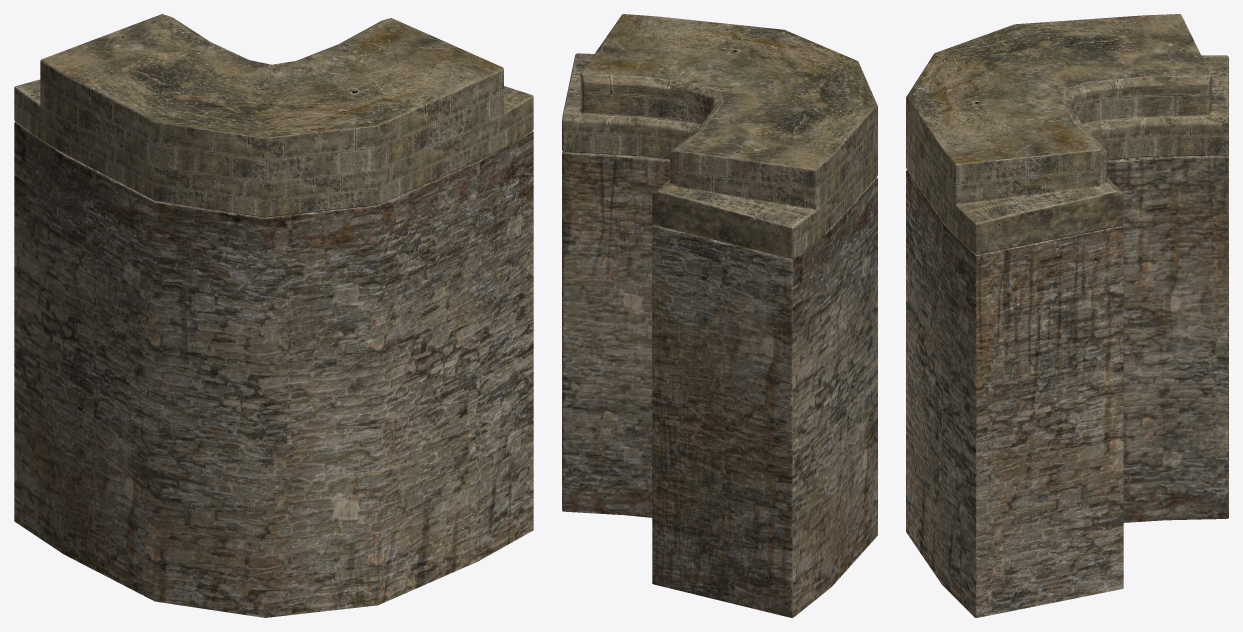
Rendered from modular_fort_01_wall_thick_corner_02.gltf.
The picture shows the model from 3 angles, left to right: view 1: azimuth 30°, elevation 25°; view 2: azimuth 150°, elevation 25°; view 3: azimuth 270°, elevation 25°; orthographic projection. The views are drawn at different scales.
Visible parts, largest first — view 1: modular_fort_01_wall_thick_corner_02__x; view 2: modular_fort_01_wall_thick_corner_02__x; view 3: modular_fort_01_wall_thick_corner_02__x.
Boxes of the visible parts, <box> form: modular_fort_01_wall_thick_corner_02__x: <box>14,14,533,617</box>; modular_fort_01_wall_thick_corner_02__x: <box>562,14,877,617</box>; modular_fort_01_wall_thick_corner_02__x: <box>906,14,1228,617</box>.
Size of the model in its own units: 7.07 by 8.53 by 5.72.
Materials: 2 (2 with a texture image).
